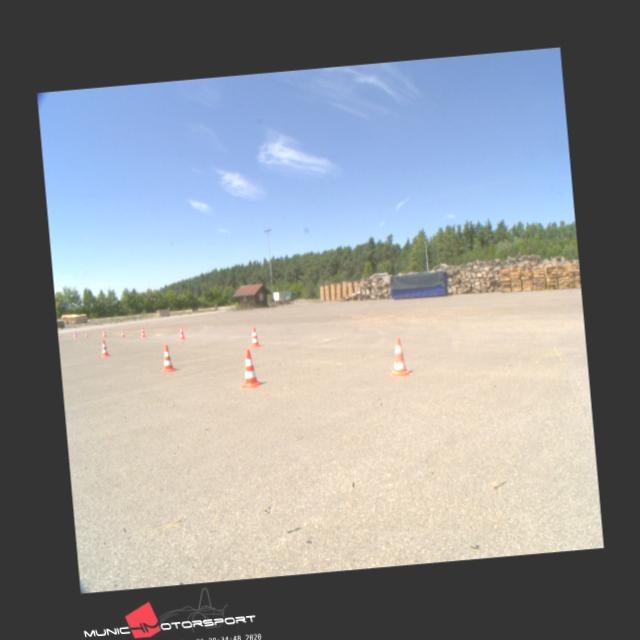large_orange_cone: (388, 336, 410, 376), (239, 347, 260, 387), (158, 344, 175, 372), (249, 327, 261, 348), (99, 339, 108, 356), (177, 325, 186, 339), (138, 325, 146, 338), (72, 330, 77, 338), (101, 328, 105, 337)
orange_cone: (121, 331, 124, 337), (85, 332, 88, 337)
